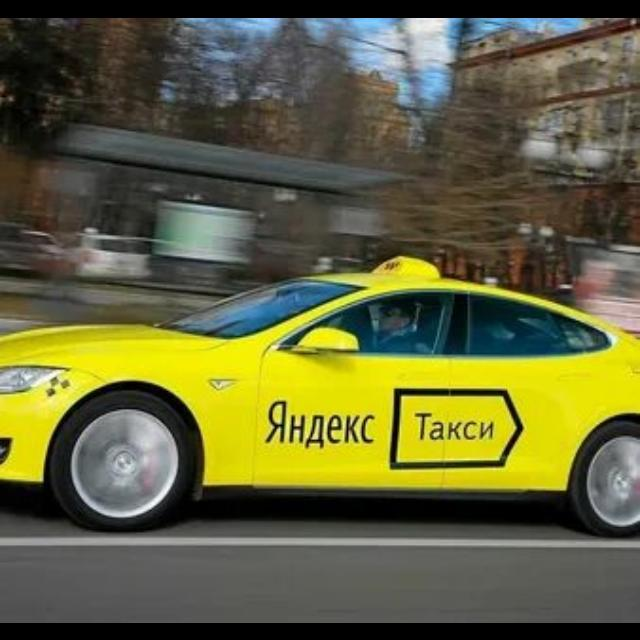taxi: (1, 253, 639, 537)
